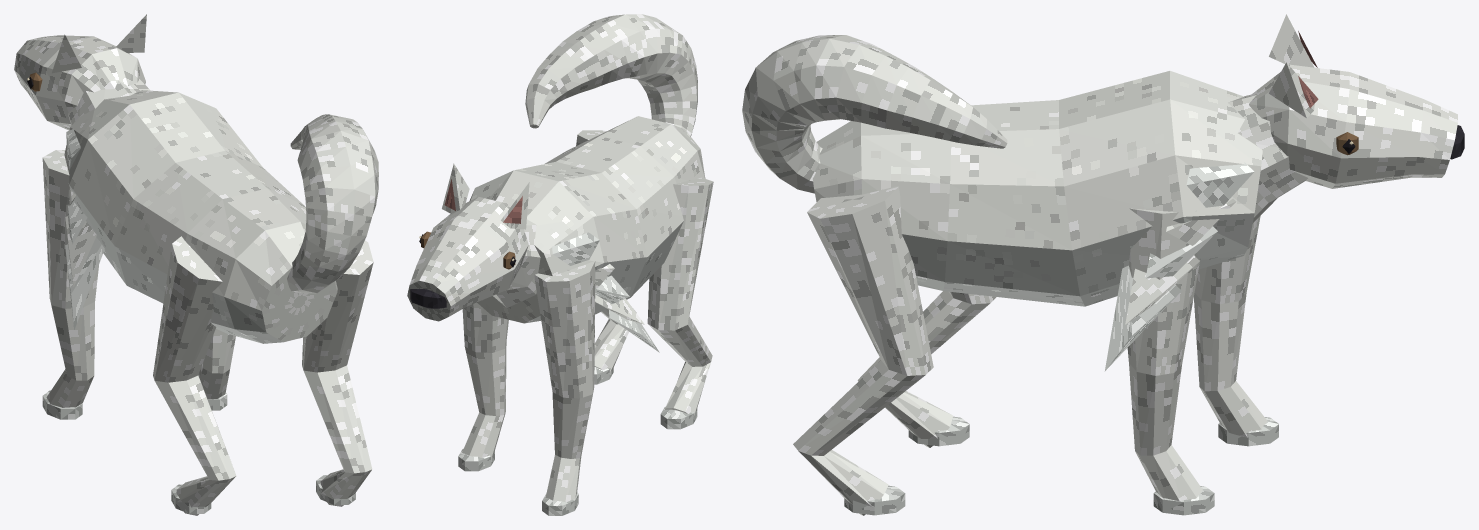
File: mon_dog_samoyed.glb
3 views of the same model, side by side, from view 1: azimuth 30°, elevation 25°; view 2: azimuth 150°, elevation 25°; view 3: azimuth 270°, elevation 25° (orthographic). The views are drawn at different scales.
Parts seen in each view (by area): view 1: closed_body; view 2: closed_body; view 3: closed_body.
Part boxes in pixels (x1,y1,x2,y2): closed_body: (14,14,378,515); closed_body: (407,14,713,515); closed_body: (742,14,1464,515).
Size of the model in its own units: 0.4755 by 0.825 by 1.15.
Materials: 1 (1 with a texture image).
